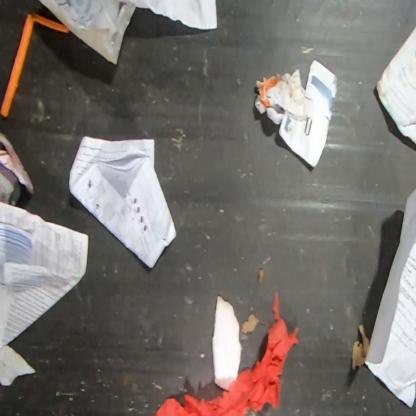rigid_plastic: (0, 12, 70, 119)
